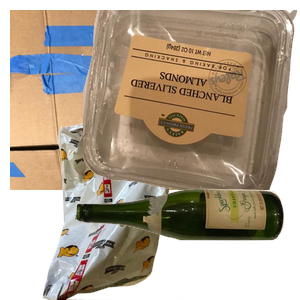cardboard: (10, 10, 250, 190)
glass: (74, 186, 300, 300)
plastic: (83, 10, 300, 190)
trash: (25, 120, 198, 300)
